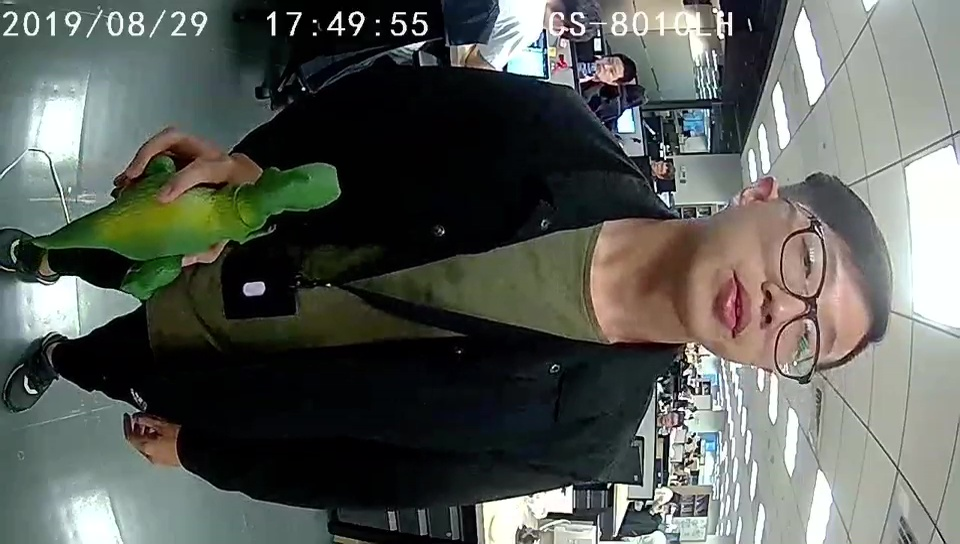rex: (89, 153, 343, 302)
